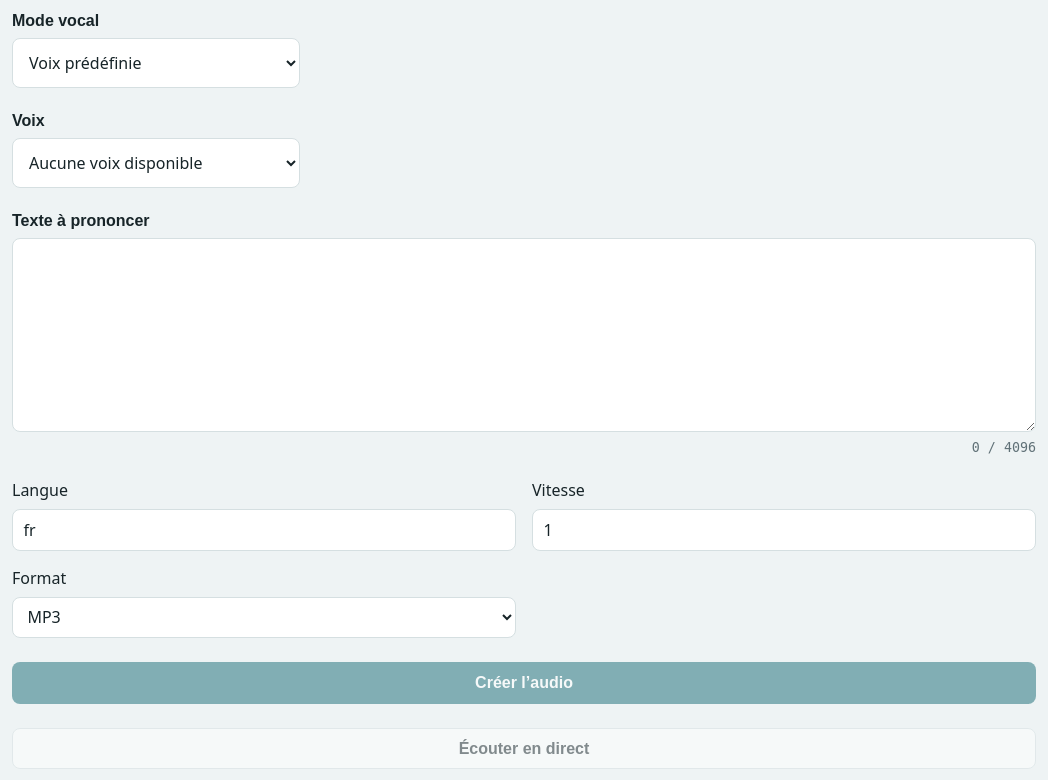
Scenario: SpeechPage › requires an instruction only for VoiceDesign
Select "VoiceDesign" in the dropdown labelled "Mode vocal" at (156, 63), box top-left (12, 38), bottom-right (300, 88)
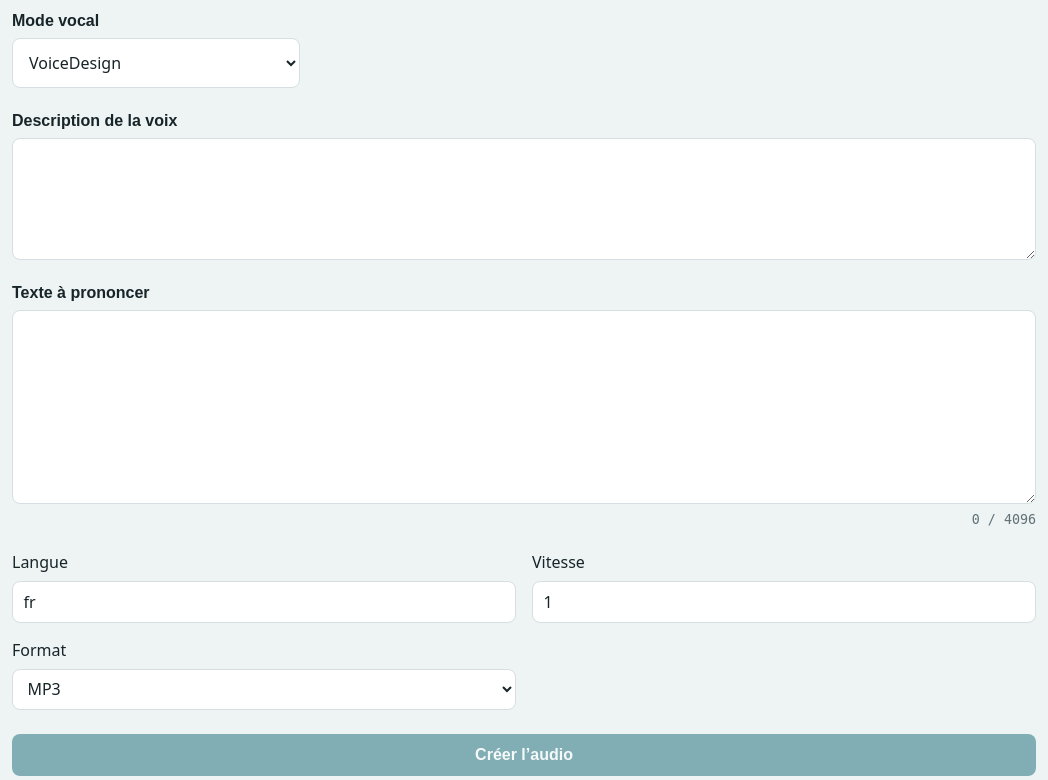
expect the text box labelled "Description de la voix" is shown: met, box top-left (12, 138), bottom-right (1036, 260)
